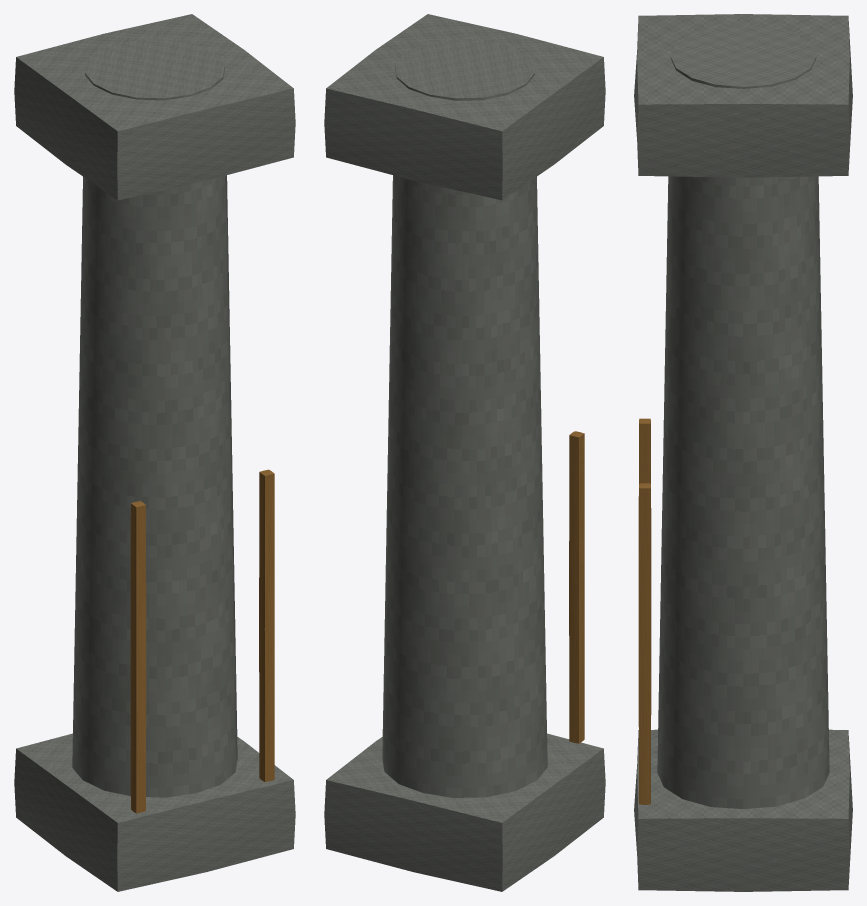
3 views of the same model, side by side, from view 1: azimuth 30°, elevation 25°; view 2: azimuth 150°, elevation 25°; view 3: azimuth 270°, elevation 25° (orthographic). The views are drawn at different scales.
Visible parts, largest first — view 1: stone.0, stone.2, stone.1, brass.3, brass.4; view 2: stone.0, stone.2, stone.1, brass.3; view 3: stone.0, stone.2, stone.1, brass.4, brass.3.
Boxes of the visible parts, x1,y1,x2,y2 form: stone.0: (72,39,237,797); stone.2: (14,14,295,200); stone.1: (14,733,295,891); brass.3: (130,501,146,813); brass.4: (259,469,274,781); stone.0: (382,39,547,797); stone.2: (324,14,605,200); stone.1: (324,733,605,891); brass.3: (569,431,584,743); stone.0: (657,25,829,808); stone.2: (634,14,852,177); stone.1: (634,729,852,891); brass.4: (638,483,651,804); brass.3: (638,418,651,572).
Bounding box in the file's own units: 0.6 × 2.41 × 0.6.
3 materials, 3 textured.
